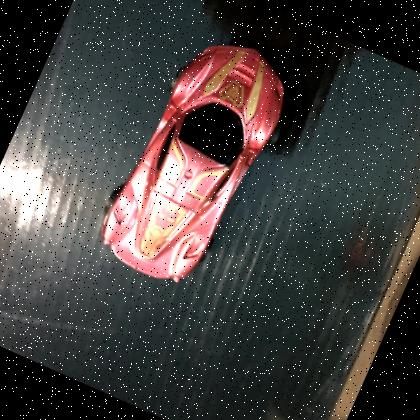Car: (84, 17, 310, 304)
